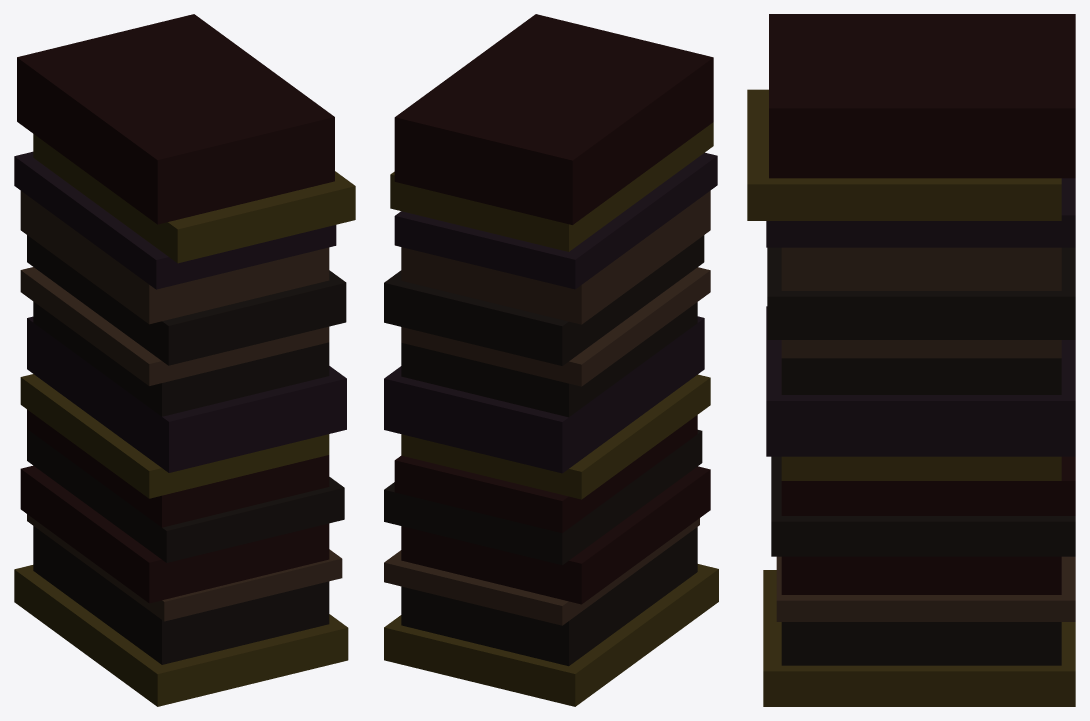
File: book_pile.obj
The picture shows the model from 3 angles, left to right: view 1: azimuth 30°, elevation 25°; view 2: azimuth 150°, elevation 25°; view 3: azimuth 270°, elevation 25°; orthographic projection. The views are drawn at different scales.
Parts seen in each view (by area): view 1: pCube99; view 2: pCube99; view 3: pCube99.
Boxes of the visible parts, box(x1,y1,x2,y2) form: pCube99: box(14, 14, 355, 706); pCube99: box(384, 14, 718, 706); pCube99: box(747, 14, 1075, 706).
Size of the model in its own units: 0.1889 by 0.5151 by 0.2586.
